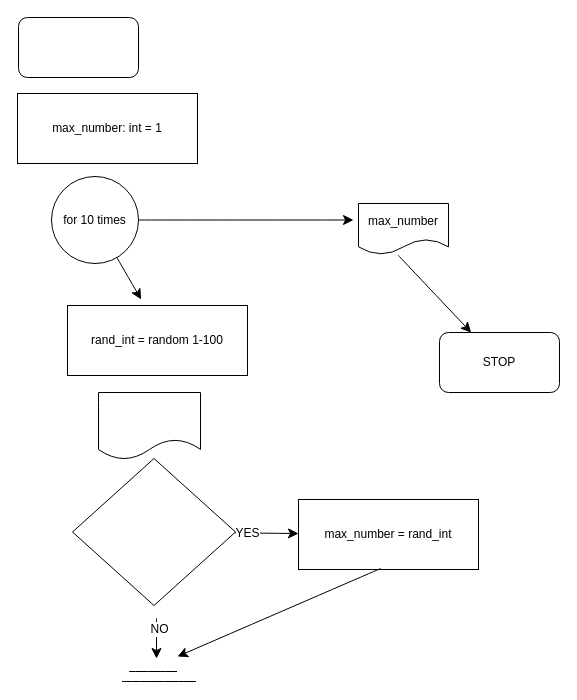
This 577x700 diagram has some shape labels left out. The shapes that lost their labels are listed below. From the top down, each one's box as (x1, y1, x2, y2) in pixels, then its label:
(18, 16, 138, 78): START
(98, 392, 200, 460): rand_int
(72, 458, 236, 606): rand_int > max_number ?
